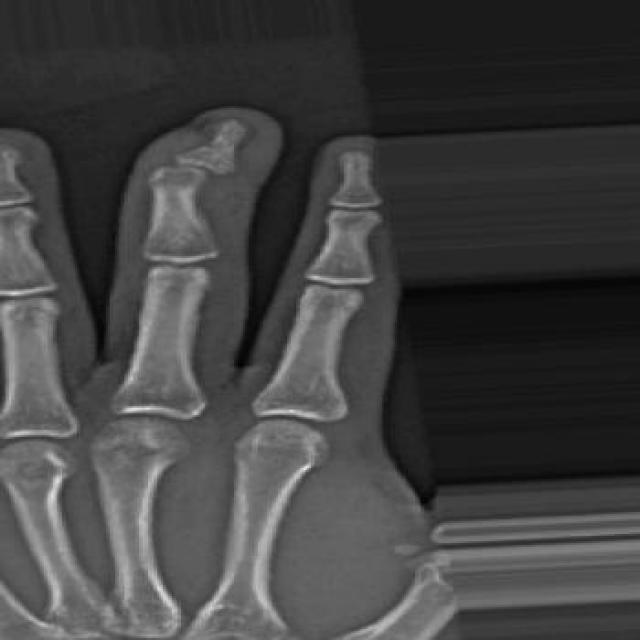Fracture: (148, 144, 232, 180)
